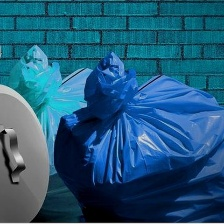plastic_bag: (51, 48, 224, 223), (4, 41, 112, 224)
